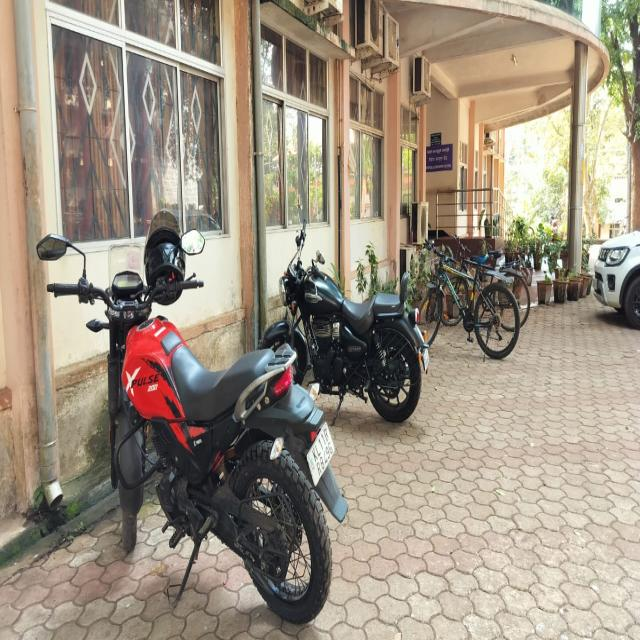bicycle ahead at: (410, 223, 522, 377)
motorcycle ahead at: (31, 210, 349, 622), (258, 210, 427, 433)
